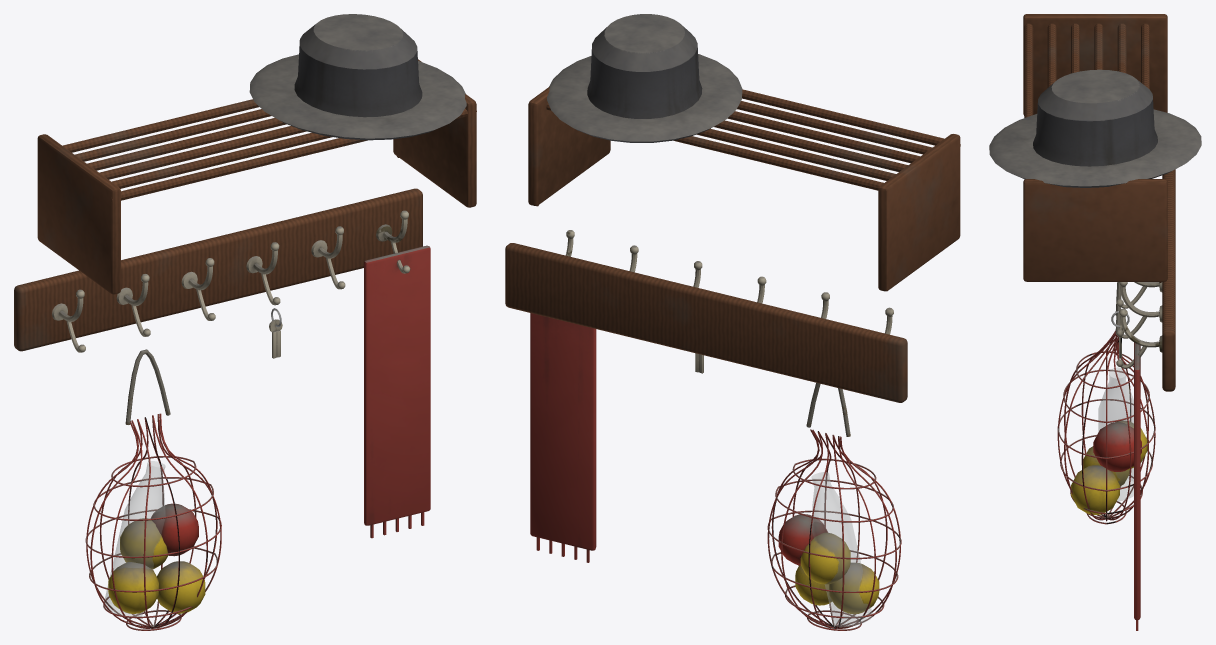
The model's file is SM_CoatRack_Wall.fbx.
3 renders of one model, left to right at view 1: azimuth 30°, elevation 25°; view 2: azimuth 150°, elevation 25°; view 3: azimuth 270°, elevation 25°, orthographic. The views are drawn at different scales.
Visible parts, largest first — view 1: SM_CoatRack_Wall; view 2: SM_CoatRack_Wall; view 3: SM_CoatRack_Wall.
Part boxes in pixels (left/top/right/bottom): SM_CoatRack_Wall: left=14, top=14, right=476, bottom=630; SM_CoatRack_Wall: left=505, top=14, right=960, bottom=630; SM_CoatRack_Wall: left=989, top=14, right=1201, bottom=630.
Size of the model in its own units: 0.8 by 1.05 by 0.3819.
2 materials, 1 textured.
